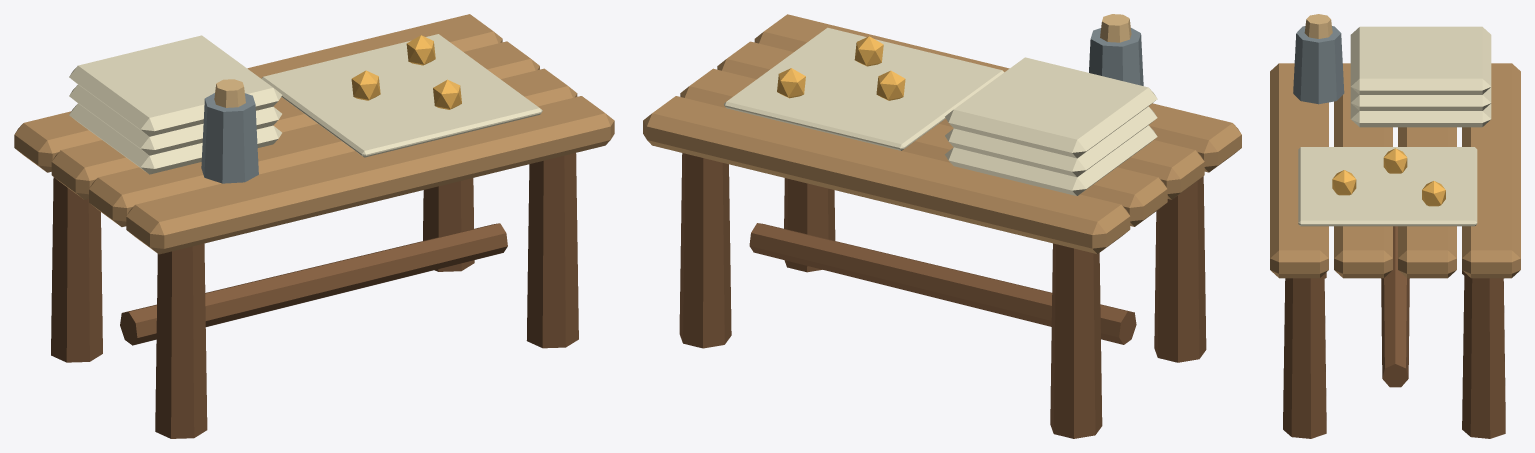
File: CC_AdminDesk.fbx
3 renders of one model, left to right at view 1: azimuth 30°, elevation 25°; view 2: azimuth 150°, elevation 25°; view 3: azimuth 270°, elevation 25°, orthographic. The views are drawn at different scales.
Visible parts, largest first — view 1: Plank.024, Map, Brace.006, Ledger.002, Leg.028, Leg.030, Leg.029, Plank.025, Plank.027, Plank.026, Medicine jar.007, Ledger.001 (+6 smaller); view 2: Plank.027, Map, Ledger.002, Brace.006, Leg.029, Leg.031, Leg.028, Plank.024, Plank.026, Plank.025, Ledger, Ledger.001 (+6 smaller); view 3: Map, Ledger.002, Plank.027, Plank.024, Leg.031, Leg.030, Plank.025, Plank.026, Brace.006, Medicine jar.007, Ledger, Ledger.001 (+4 smaller).
Boxes of the visible parts, x1,y1,x2,y2 form: Plank.024: [126, 96, 614, 254]; Map: [261, 34, 542, 157]; Brace.006: [120, 223, 507, 345]; Ledger.002: [69, 35, 281, 136]; Leg.028: [155, 243, 207, 438]; Leg.030: [526, 153, 578, 348]; Leg.029: [51, 177, 102, 362]; Plank.025: [89, 68, 577, 226]; Plank.027: [14, 14, 502, 172]; Plank.026: [51, 41, 539, 199]; Medicine jar.007: [201, 93, 258, 183]; Ledger.001: [69, 84, 281, 155]; Plank.027: [643, 96, 1130, 254]; Map: [724, 27, 1004, 150]; Ledger.002: [945, 57, 1157, 158]; Brace.006: [749, 223, 1136, 344]; Leg.029: [1050, 243, 1102, 438]; Leg.031: [679, 153, 731, 348]; Leg.028: [1154, 176, 1206, 362]; Plank.024: [754, 14, 1241, 172]; Plank.026: [680, 68, 1167, 226]; Plank.025: [717, 41, 1204, 199]; Ledger: [945, 125, 1157, 195]; Ledger.001: [945, 106, 1157, 177]; Map: [1298, 147, 1477, 226]; Ledger.002: [1350, 26, 1491, 94]; Plank.027: [1462, 63, 1520, 278]; Plank.024: [1270, 63, 1328, 278]; Leg.031: [1462, 272, 1505, 438]; Leg.030: [1283, 274, 1326, 438]; Plank.025: [1334, 63, 1392, 278]; Plank.026: [1398, 127, 1456, 278]; Brace.006: [1381, 226, 1409, 387]; Medicine jar.007: [1293, 26, 1344, 104]; Ledger: [1350, 103, 1491, 127]; Ledger.001: [1350, 87, 1491, 110].
Size of the model in its own units: 1.8 by 1.2 by 0.98.
